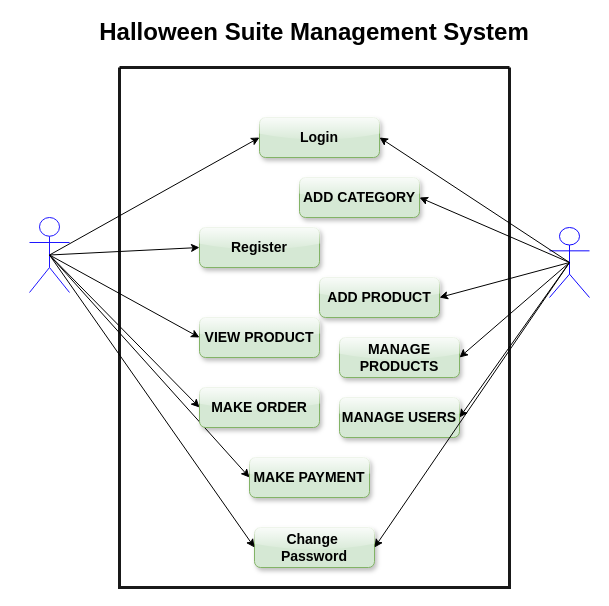
Image size: 609x606. Some labels were removed from this diagram. The centre of each missing label's shape, as x and y in pixels:
"Admin" belongs at (569,262).
"Customer" belongs at (49,254).
